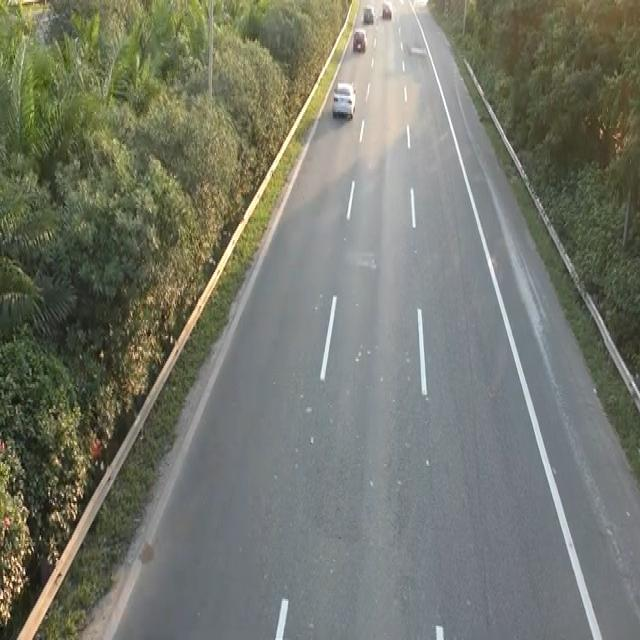bus: (329, 76, 359, 126), (351, 26, 367, 52), (362, 4, 375, 23), (381, 0, 392, 20)
